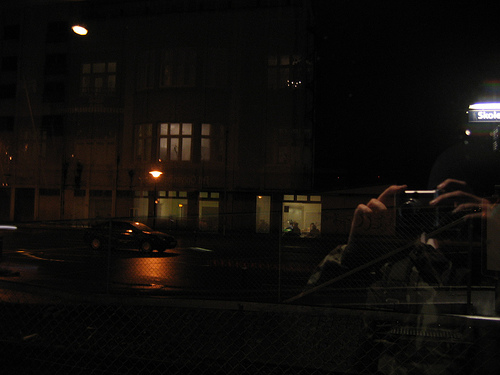car: (79, 214, 180, 258)
